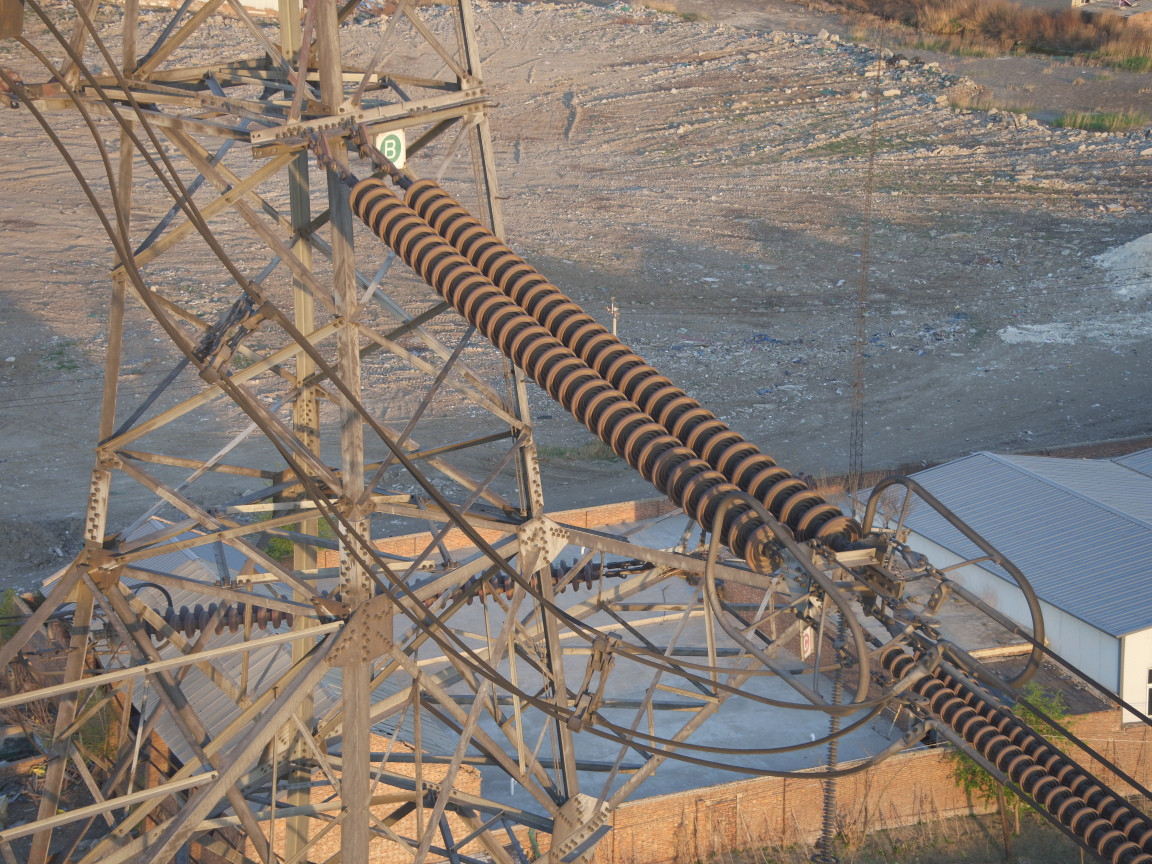insulator: (328, 154, 883, 581)
